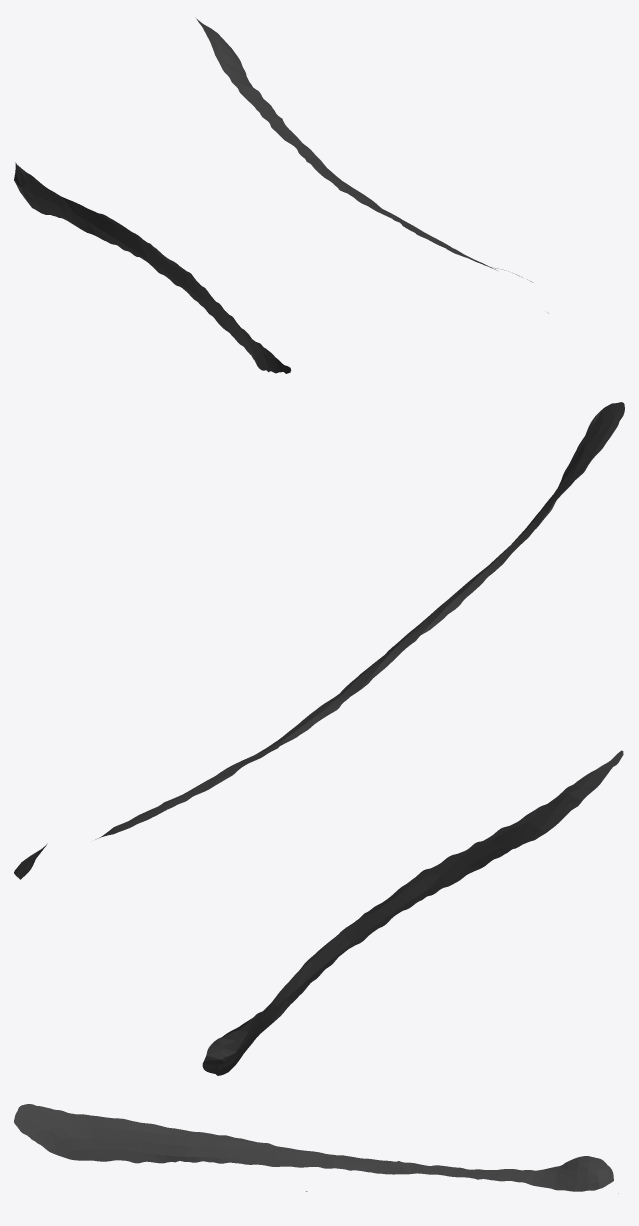
Rendered from bone_splint.glb.
3 renders of one model, top to bottom at view 1: azimuth 30°, elevation 25°; view 2: azimuth 150°, elevation 25°; view 3: azimuth 270°, elevation 25°, orthographic. The views are drawn at different scales.
Parts seen in each view (by area): view 1: bone_splint; view 2: bone_splint; view 3: bone_splint.
Part boxes in pixels (x1,y1,x2,y2): bone_splint: (14, 17, 548, 373); bone_splint: (14, 402, 624, 1075); bone_splint: (14, 1104, 618, 1193).
Size of the model in its own units: 0.0666 by 0.0608 by 0.2391.
Materials: 1 (1 with a texture image).
